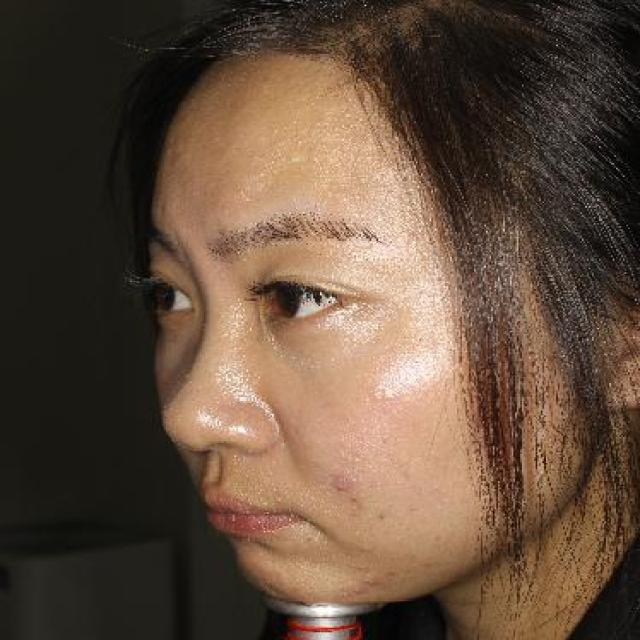papules: (328, 474, 352, 492)
pustules: (351, 583, 366, 595), (363, 576, 380, 584)
whiteheads: (369, 384, 386, 396)
